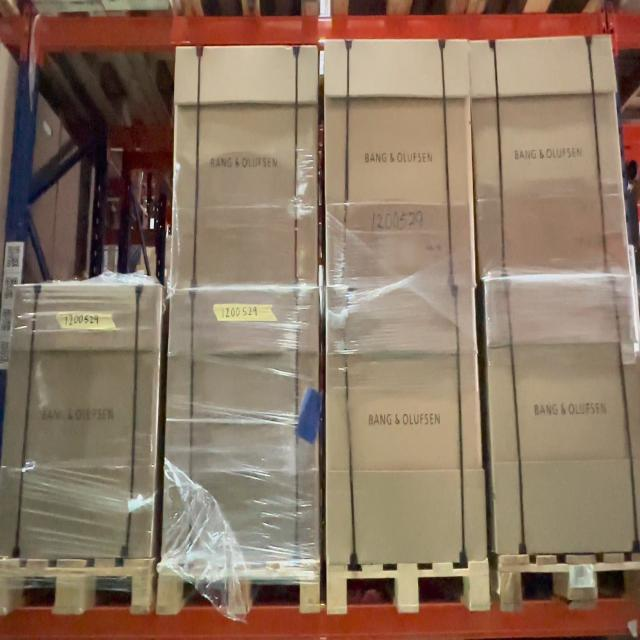box: (327, 295, 488, 561), (1, 284, 156, 548), (167, 287, 316, 561), (328, 42, 473, 294), (504, 282, 638, 546), (173, 45, 315, 288), (479, 39, 612, 280)
